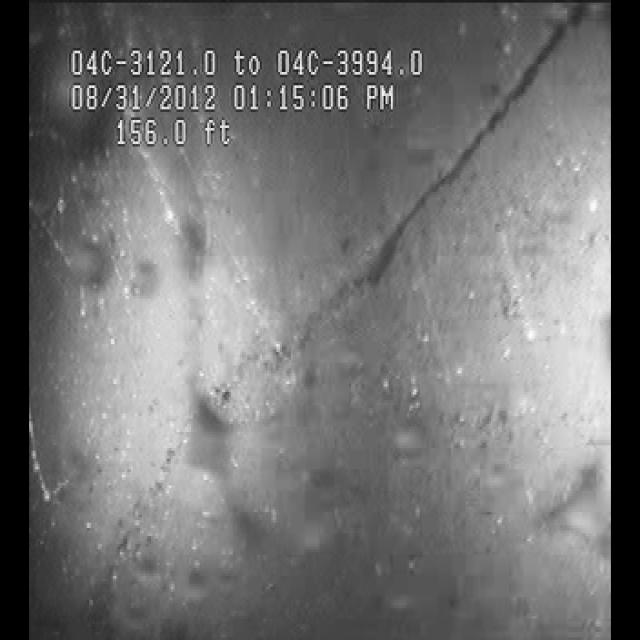Crack: (297, 121, 527, 398)
